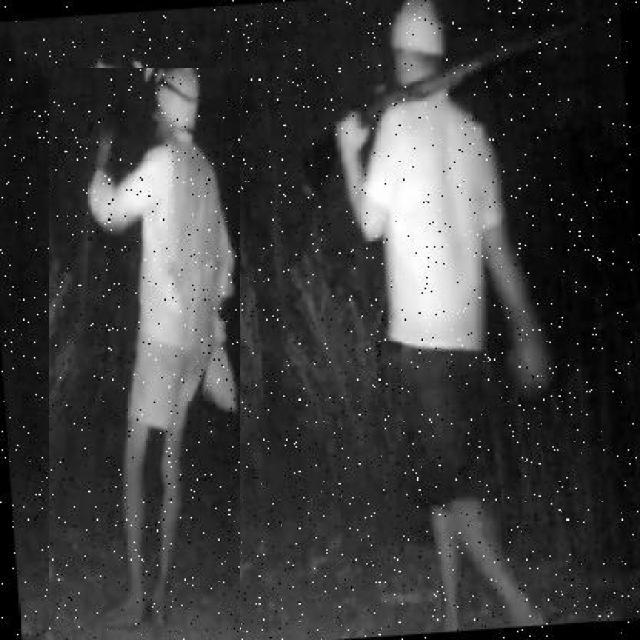poacher: (331, 6, 544, 597), (49, 68, 240, 630)
